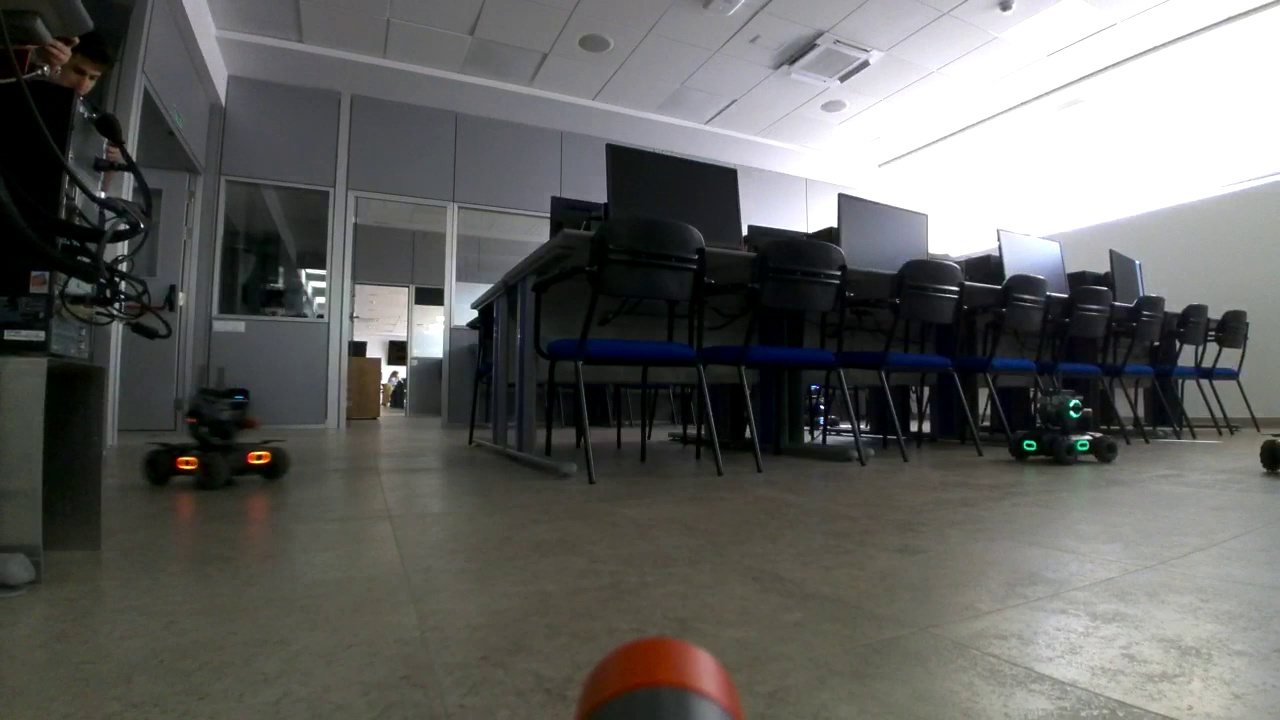robot: (140, 366, 291, 493), (1008, 369, 1119, 466)
